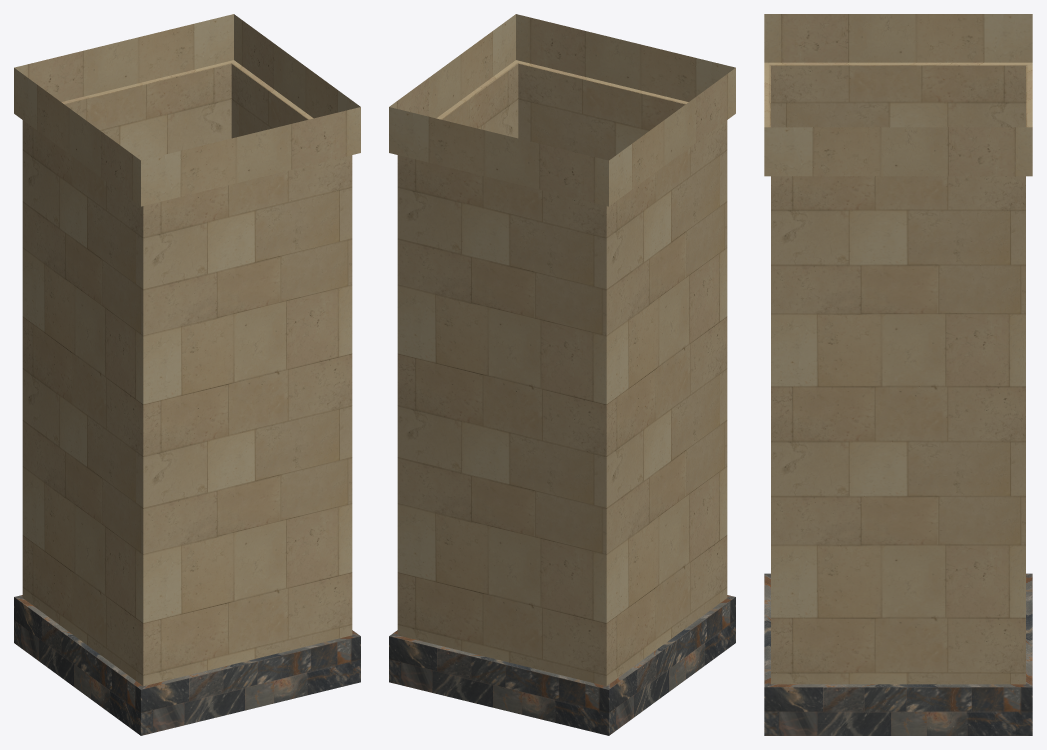
Rendered from Column_01_2x2.fbx.
The picture shows the model from 3 angles, left to right: view 1: azimuth 30°, elevation 25°; view 2: azimuth 150°, elevation 25°; view 3: azimuth 270°, elevation 25°; orthographic projection. The views are drawn at different scales.
Visible parts, largest first — view 1: Cube.134; view 2: Cube.134; view 3: Cube.134.
Boxes of the visible parts, x1=… form: Cube.134: x1=14, y1=14, x2=360, y2=735; Cube.134: x1=389, y1=14, x2=735, y2=735; Cube.134: x1=764, y1=14, x2=1032, y2=735.
Size of the model in its own units: 200 by 500 by 200.
